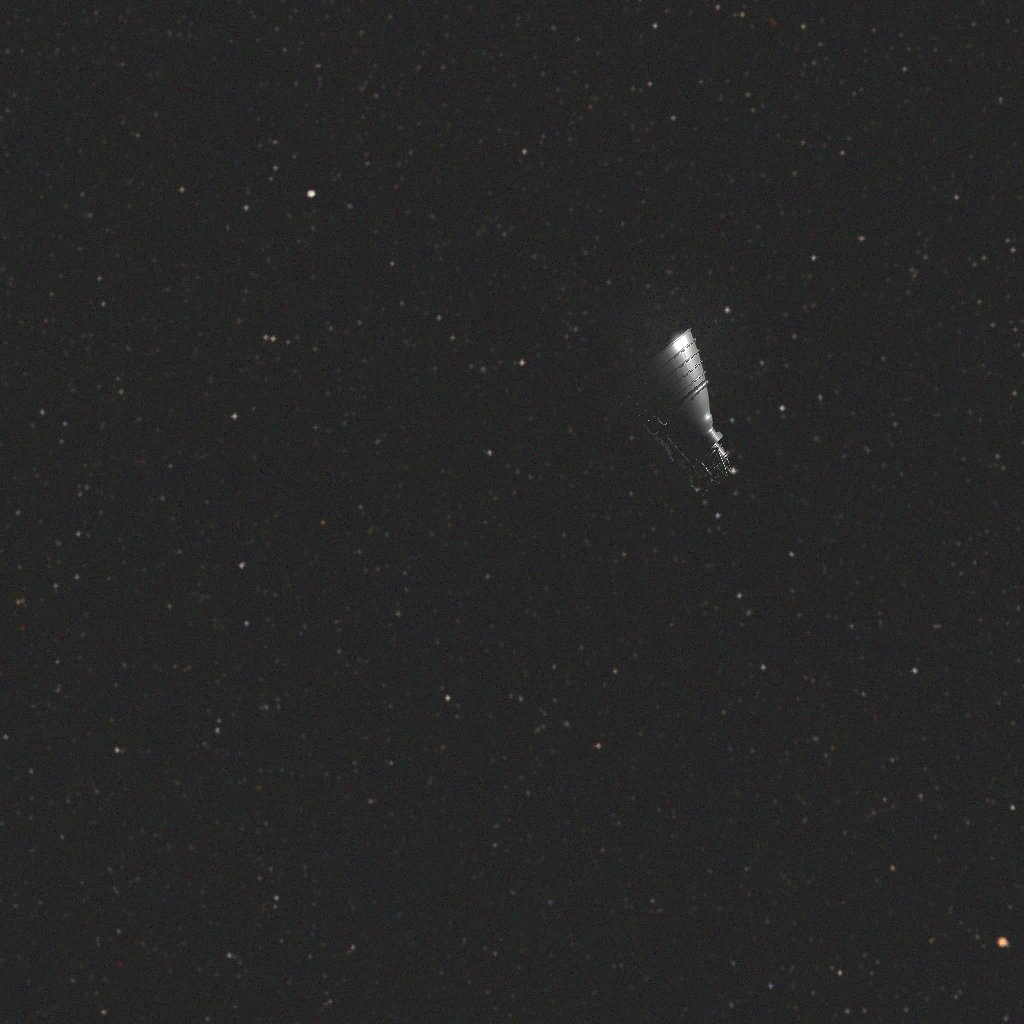debris: (626, 319, 739, 466)
